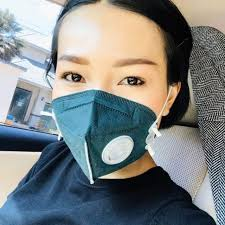n95: (47, 90, 165, 185)
